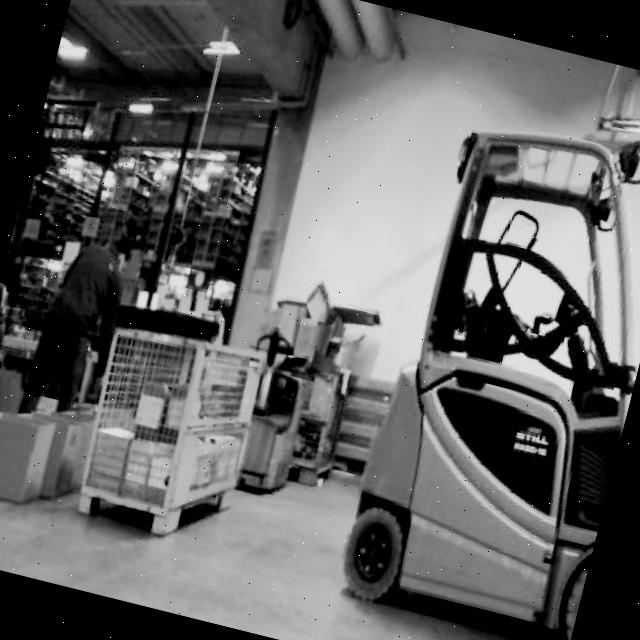ground: (0, 377, 597, 640)
pallet: (0, 205, 411, 582), (322, 366, 620, 534), (66, 312, 271, 551), (224, 267, 388, 491), (250, 267, 386, 386), (0, 380, 102, 519), (322, 368, 395, 479)
